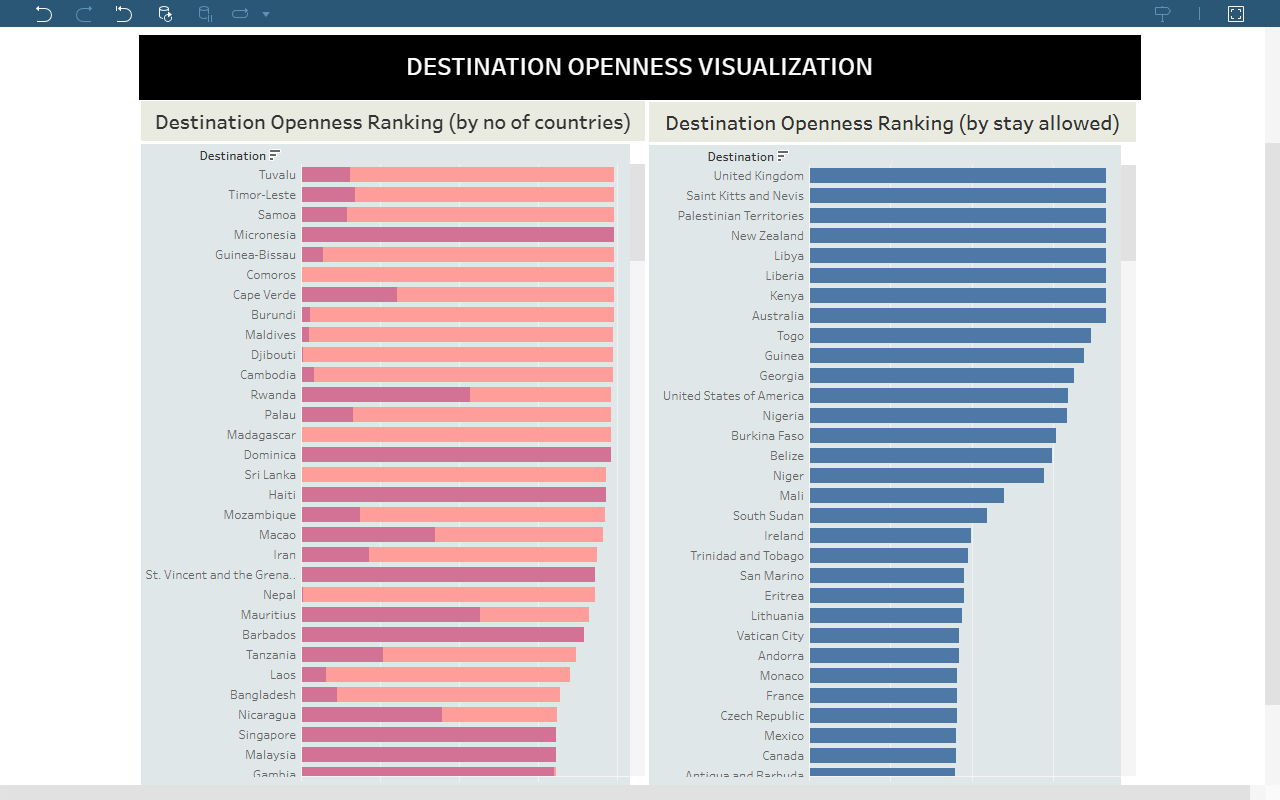

The dashboard page shown, as its layout file describes it:
{"tool":"tableau","page":{"name":"Dashboard 3","canvas":[1000,800],"ordinal":2},"visuals":[{"type":"text","box":[0,8,999,47]},{"type":"worksheet","title":"Dest_Opp_count","mark":"Automatic","rows":["Destination"],"cols":["Passport"],"box":[1,67,507,732]},{"type":"worksheet","title":"Dest_Opp_dur","mark":"Automatic","rows":["Destination"],"cols":["Duration"],"box":[509,68,490,731]}]}

Visuals, with their boxes on the page's 1000x800 design canvas (x1, y1, x2, y2). These are canvas units, not pixel positions in the 1280x800 screenshot, which may show the page scaled, cropped or inside an application window:
text: pyautogui.locateOnScreen(0, 8, 999, 55)
"Dest_Opp_count" worksheet: pyautogui.locateOnScreen(1, 67, 508, 799)
"Dest_Opp_dur" worksheet: pyautogui.locateOnScreen(509, 68, 999, 799)
